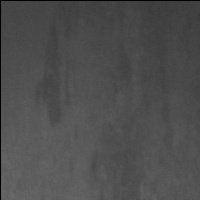inclusion: (146, 29, 181, 160), (34, 18, 72, 129), (103, 37, 132, 97), (91, 141, 112, 191)
